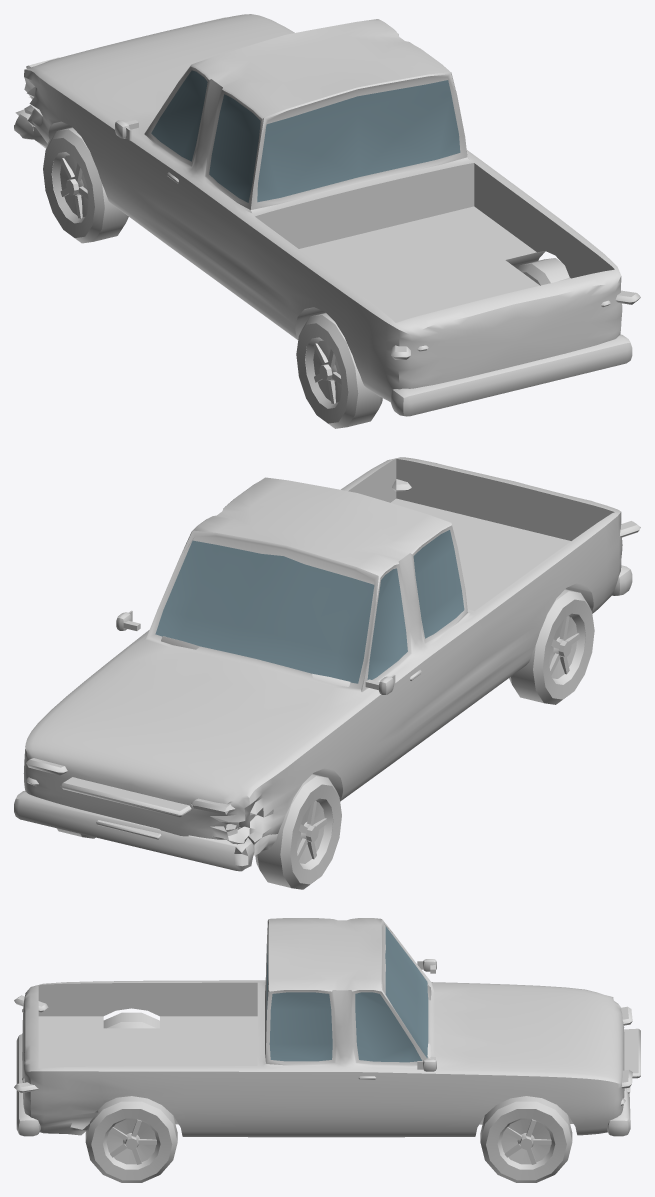
Rendered from car_pickup_dmg1.glb.
3 renders of one model, top to bottom at view 1: azimuth 30°, elevation 25°; view 2: azimuth 150°, elevation 25°; view 3: azimuth 270°, elevation 25°, orthographic. The views are drawn at different scales.
Visible parts, largest first — view 1: car_pickup_dmg1; view 2: car_pickup_dmg1; view 3: car_pickup_dmg1.
Part boxes in pixels (x1,y1,x2,y2): car_pickup_dmg1: (14, 14, 640, 428); car_pickup_dmg1: (14, 457, 640, 889); car_pickup_dmg1: (14, 918, 640, 1182).
Size of the model in its own units: 2.24 by 1.91 by 5.72.
